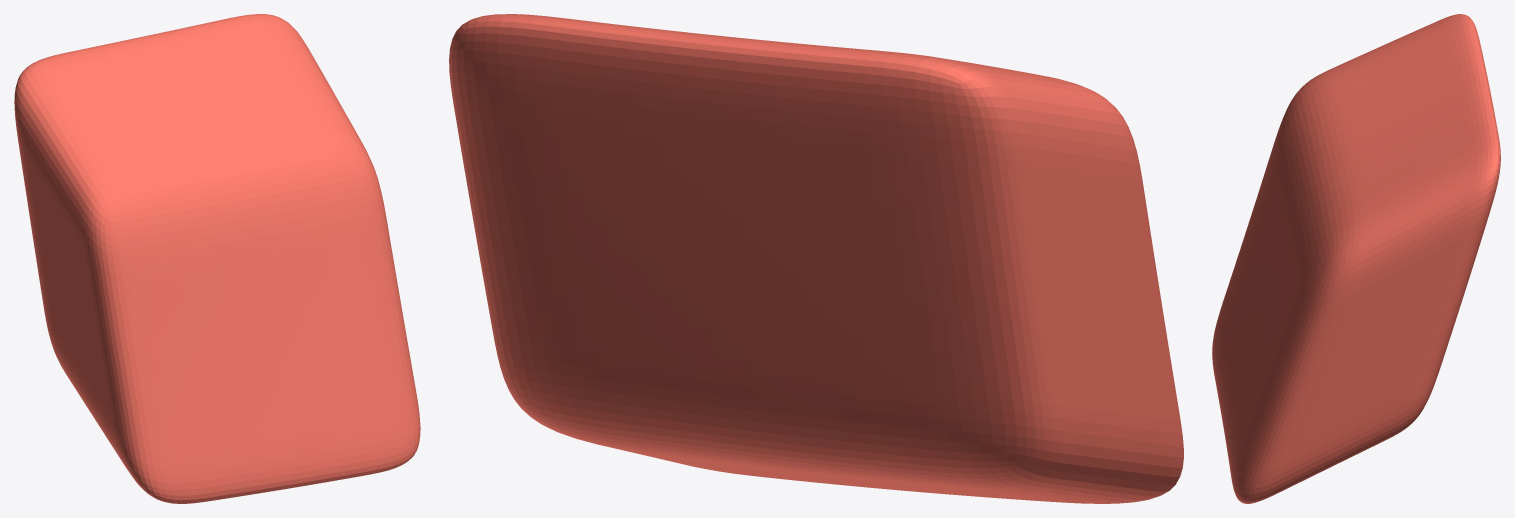
3 views of the same model, side by side, from view 1: azimuth 30°, elevation 25°; view 2: azimuth 150°, elevation 25°; view 3: azimuth 270°, elevation 25° (orthographic). The views are drawn at different scales.
Parts seen in each view (by area): view 1: waves_1.061; view 2: waves_1.061; view 3: waves_1.061.
Boxes of the visible parts, <box> form: waves_1.061: <box>14,14,420,503</box>; waves_1.061: <box>449,14,1183,503</box>; waves_1.061: <box>1212,14,1500,503</box>.
Size of the model in its own units: 30.39 by 34.96 by 24.89.
